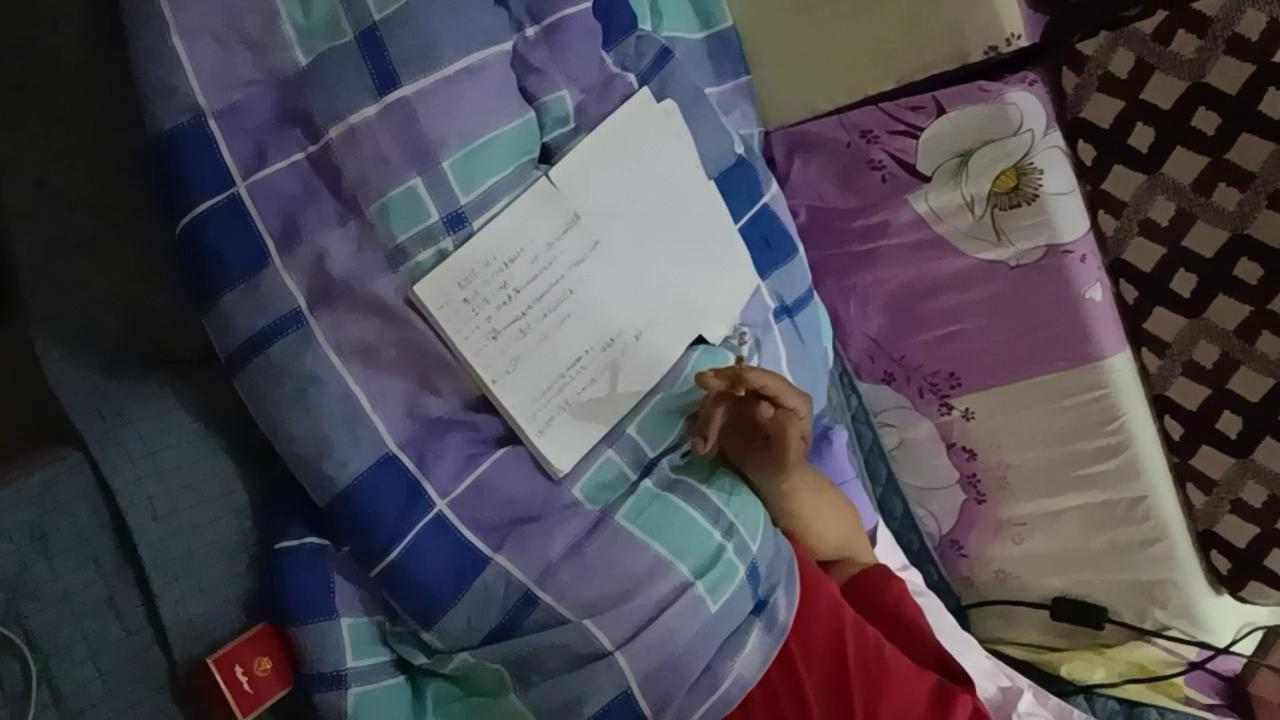smoke: (733, 330, 749, 395)
